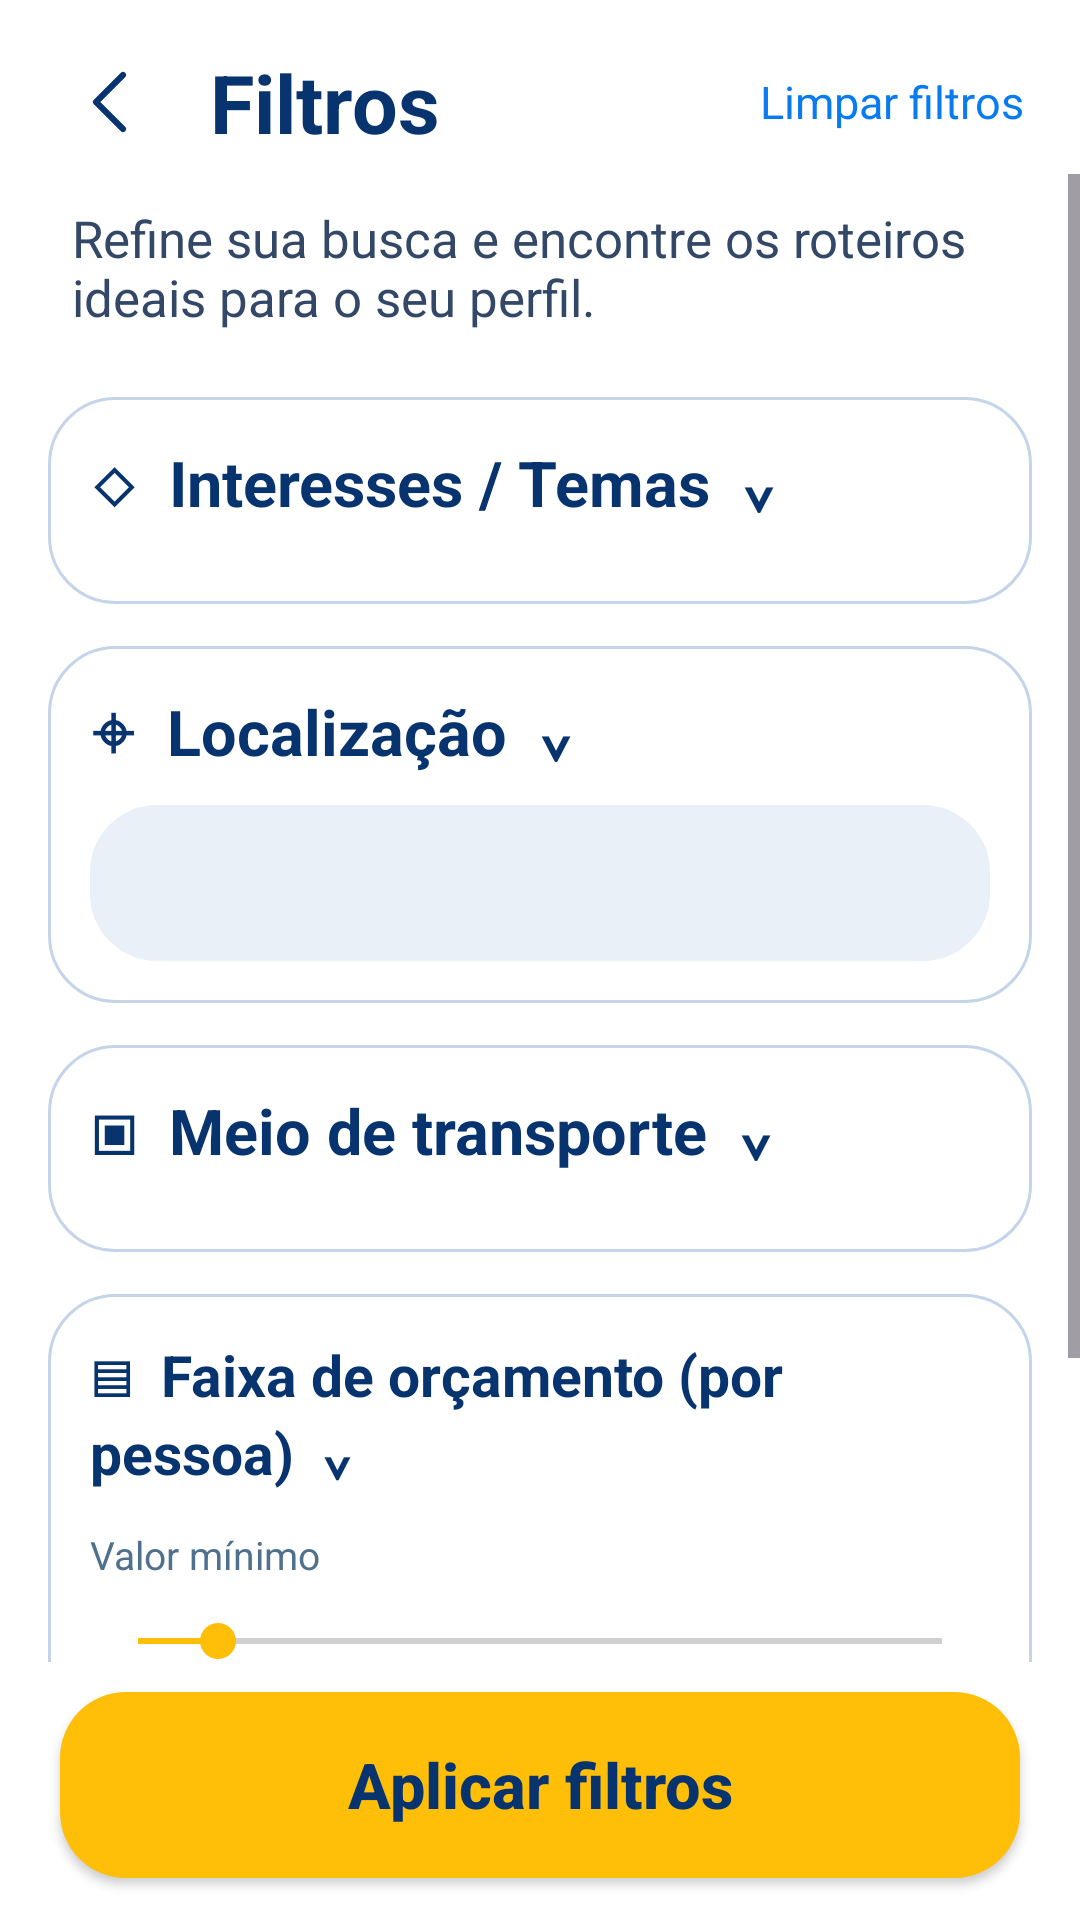

Screen size 1080*1920. Icon name, then its box in pixels as (left=x1, top=y1, right=x2, bottom=y2):
Voltar: (left=92, top=71, right=126, bottom=133)
